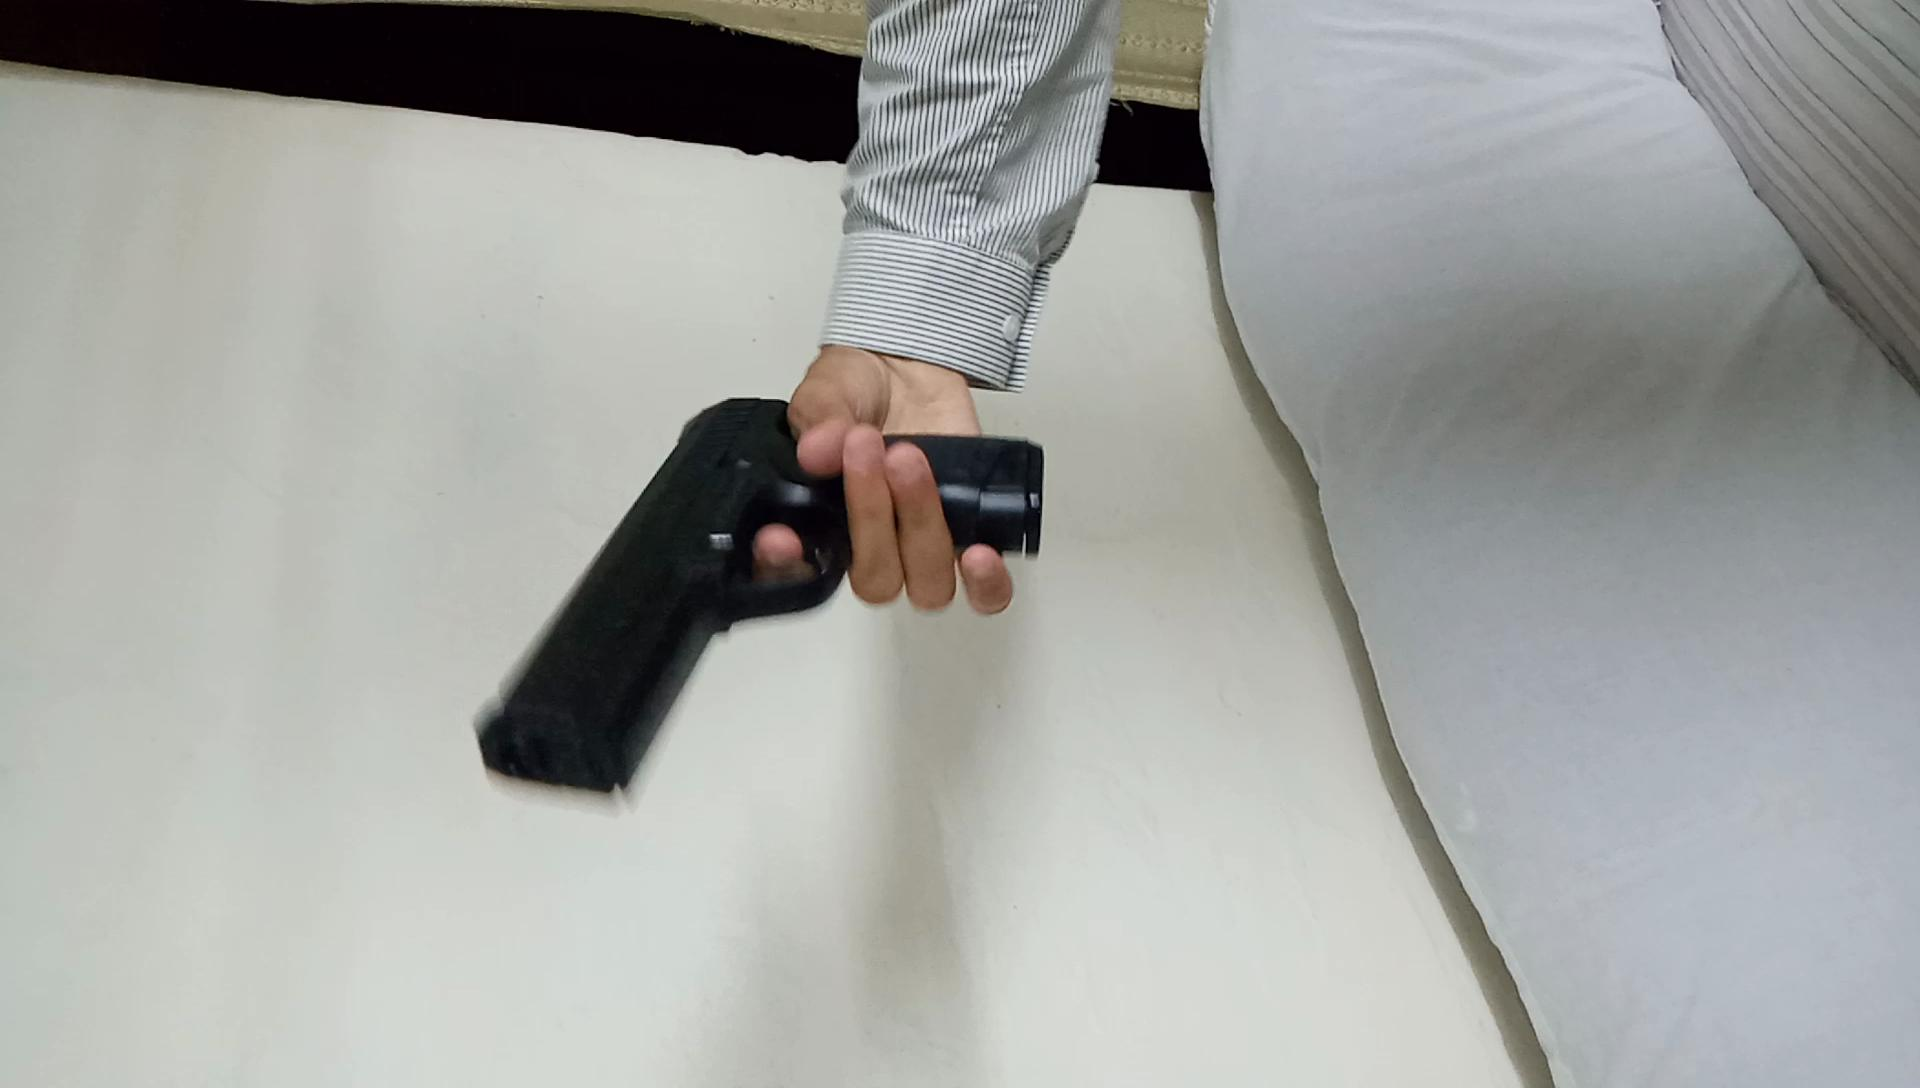weapon: (465, 382, 1062, 826)
